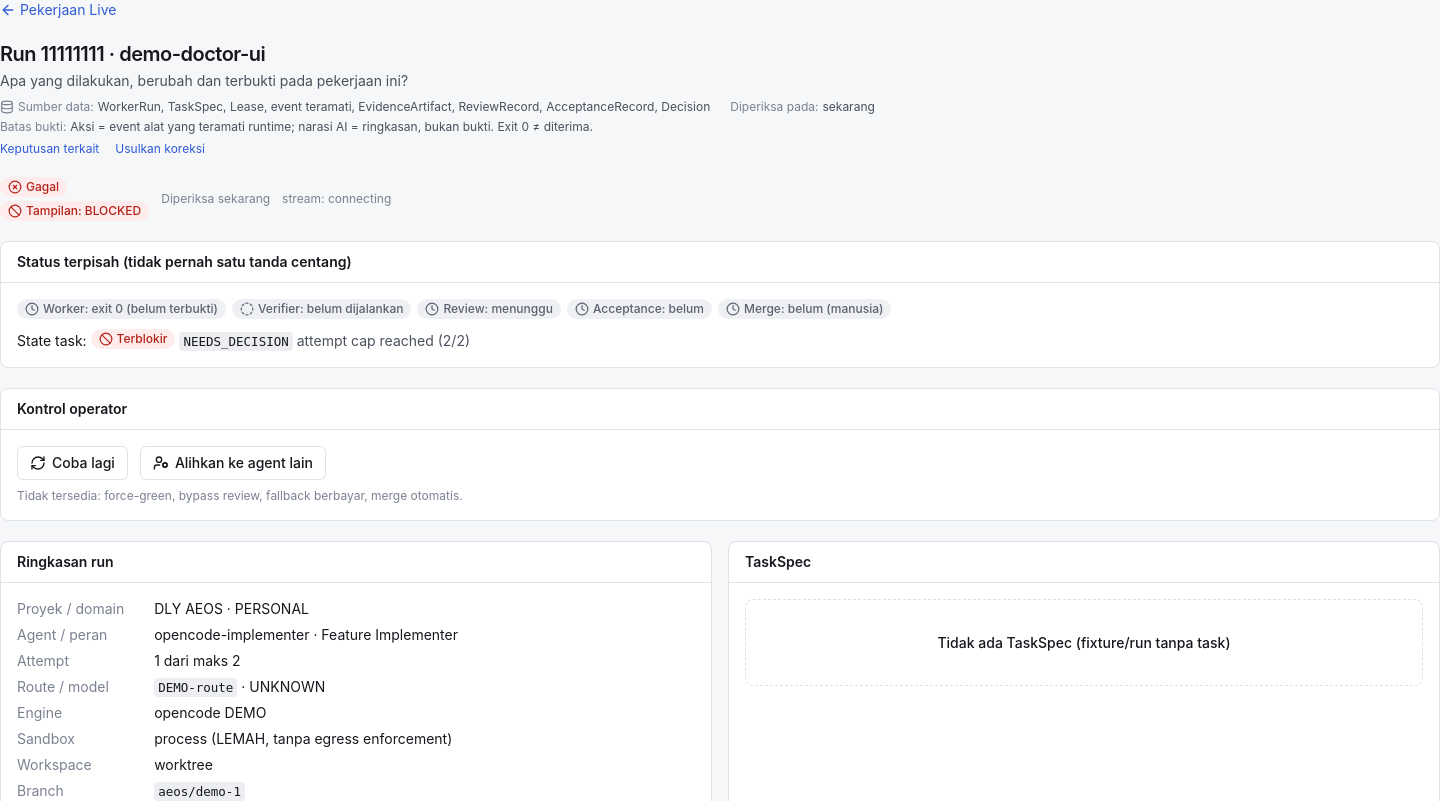
Test: Run detail retry decision › still asks for extra attempts when the attempt cap is the reason
This screenshot has width=1440, height=801.
Click the button "Coba lagi" at (72,463), box [17, 446, 128, 480]
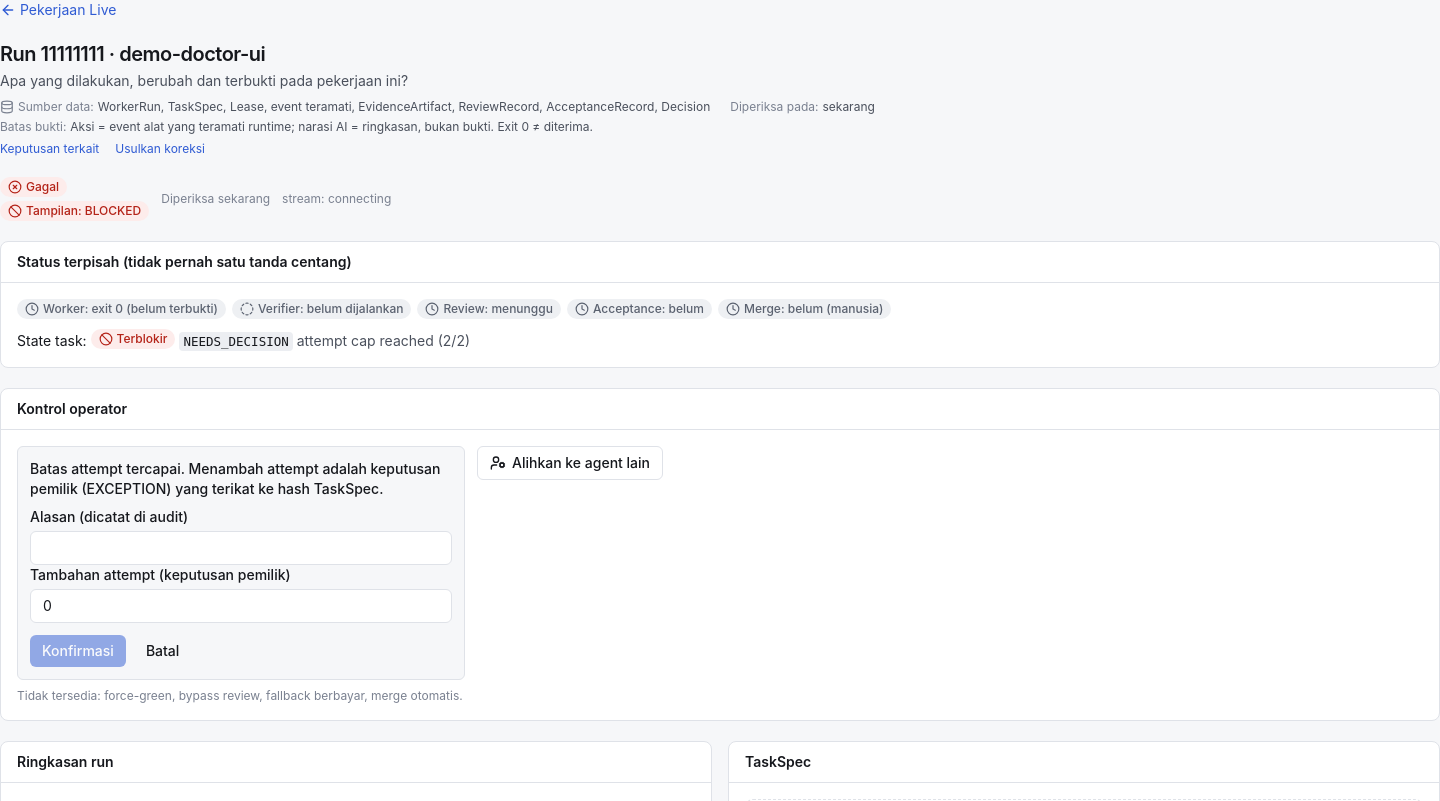
Now the text "Batas attempt tercapai" is shown, box [30, 460, 440, 497]
Now the text "Tambahan attempt (keputusan pemilik)" is shown, box [30, 566, 291, 583]
